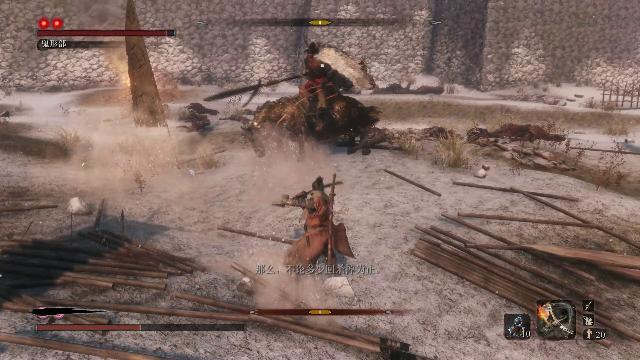sk: (272, 170, 355, 298)
